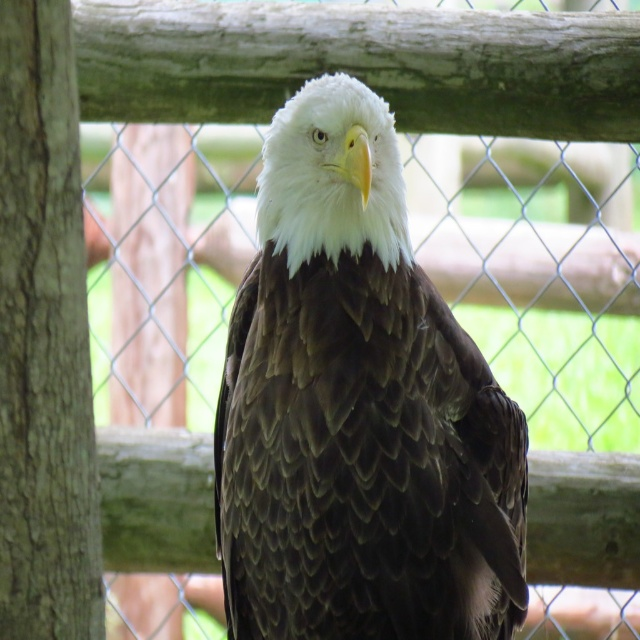Eagle: (213, 74, 534, 639)
